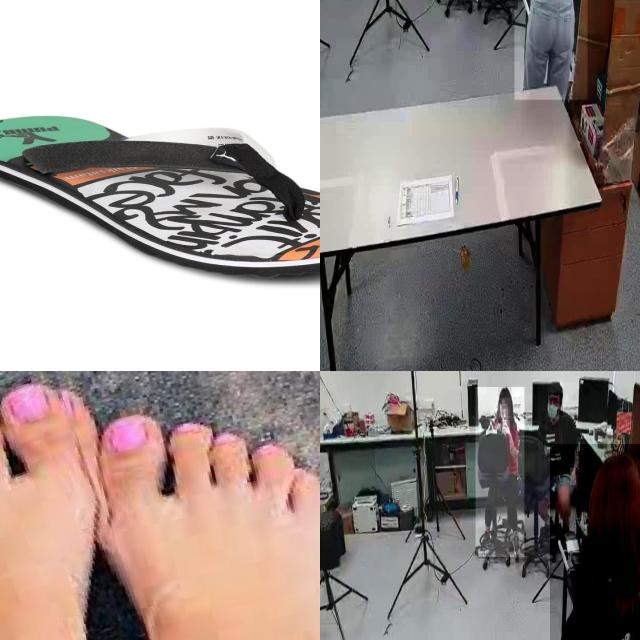Barefoots: (100, 405, 320, 640), (0, 379, 100, 640)
Sandals: (0, 114, 320, 280)
face_mask: (549, 394, 563, 416)
face_nomask: (498, 404, 508, 418)
hand_noglove: (502, 420, 511, 435), (570, 468, 576, 486)
head_nohelmet: (587, 452, 640, 509), (548, 380, 564, 393), (498, 387, 512, 399)
person: (550, 444, 640, 640), (475, 387, 525, 558), (538, 382, 580, 560), (514, 0, 587, 100)
